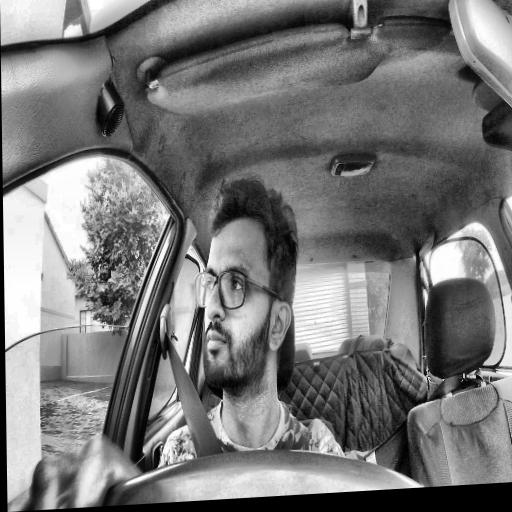awake: (193, 175, 301, 396)
